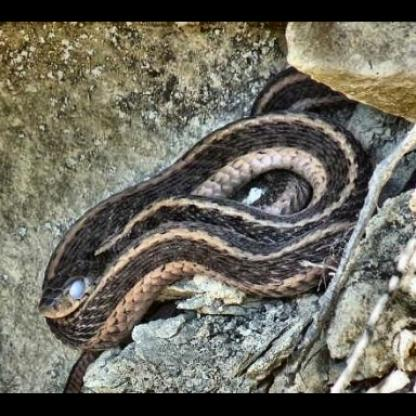Snake: (36, 100, 364, 351)
